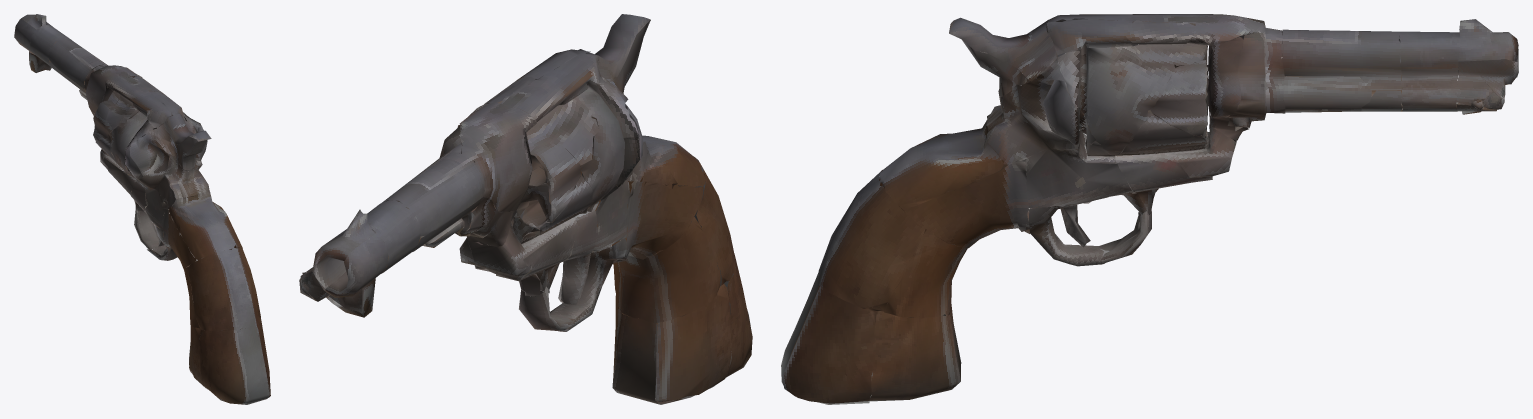
Rendered from revolver.glb.
The picture shows the model from 3 angles, left to right: view 1: azimuth 30°, elevation 25°; view 2: azimuth 150°, elevation 25°; view 3: azimuth 270°, elevation 25°; orthographic projection. The views are drawn at different scales.
Parts seen in each view (by area): view 1: Revolver; view 2: Revolver; view 3: Revolver.
Part boxes in pixels (box(x1,y1,x2,y2)): Revolver: box(14, 14, 270, 404); Revolver: box(299, 14, 752, 404); Revolver: box(781, 14, 1518, 404).
Bounding box in the file's own units: 0.0725 × 0.2027 × 0.3651.
1 material, 1 textured.
